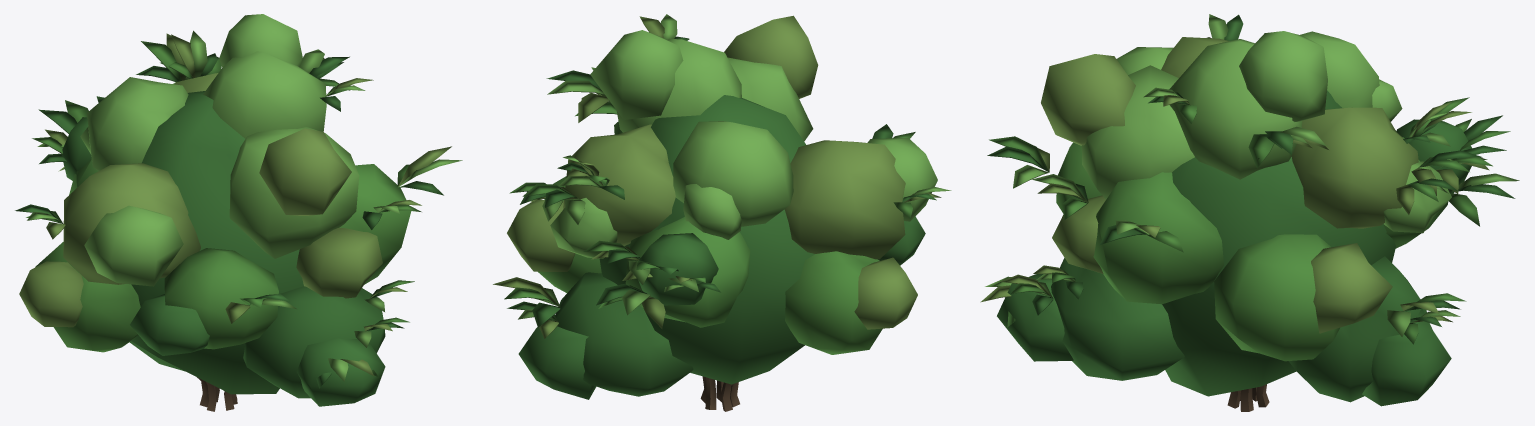
Rendered from bush.glb.
3 renders of one model, left to right at view 1: azimuth 30°, elevation 25°; view 2: azimuth 150°, elevation 25°; view 3: azimuth 270°, elevation 25°, orthographic. The views are drawn at different scales.
Visible parts, largest first — view 1: bush; view 2: bush; view 3: bush.
Part boxes in pixels (x1=…): bush: x1=15, y1=14, x2=462, y2=411; bush: x1=493, y1=14, x2=951, y2=411; bush: x1=980, y1=14, x2=1519, y2=411.
Bounding box in the file's own units: 1.04 × 0.91 × 1.1.
